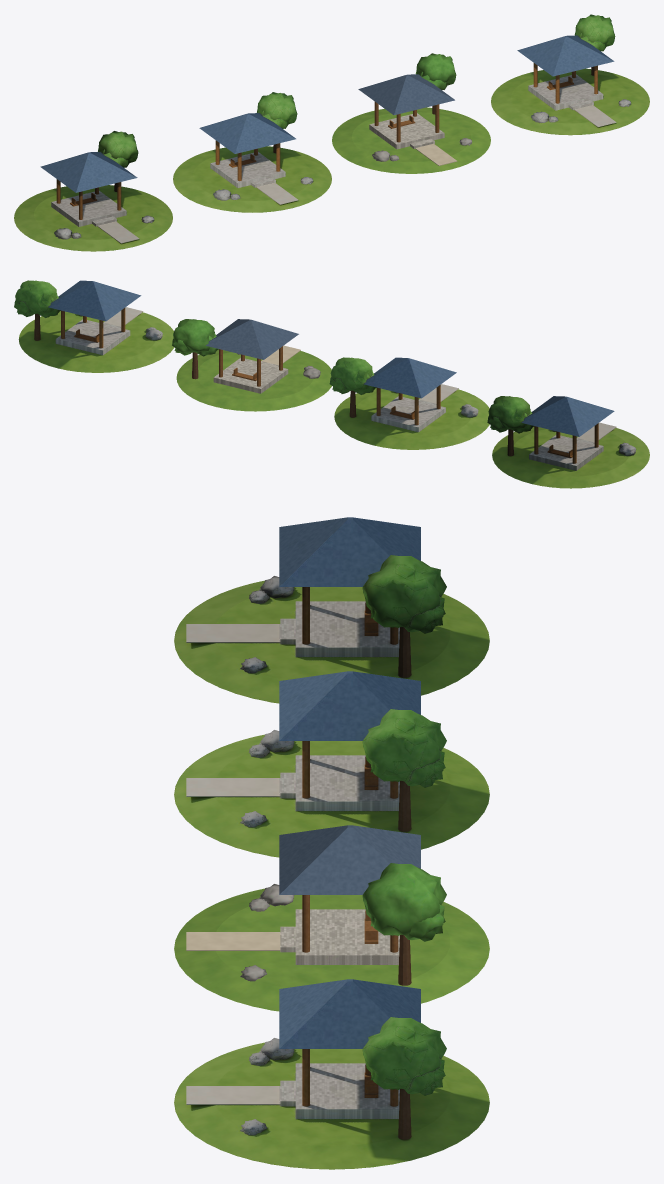
Rendered from edu_test_v1.glb.
The picture shows the model from 3 angles, top to bottom: view 1: azimuth 30°, elevation 25°; view 2: azimuth 150°, elevation 25°; view 3: azimuth 270°, elevation 25°; orthographic projection. The views are drawn at different scales.
Parts seen in each view (by area): view 1: A_bake_lit, B_bake_unlit, C_color_lit, D_bake_emit; view 2: A_bake_lit, C_color_lit, D_bake_emit, B_bake_unlit; view 3: D_bake_emit, A_bake_lit, B_bake_unlit, C_color_lit.
Part boxes in pixels (x1,y1,x2,y2): A_bake_lit: (14, 131, 172, 251); B_bake_unlit: (173, 92, 331, 212); C_color_lit: (332, 53, 490, 173); D_bake_emit: (491, 14, 649, 135); A_bake_lit: (487, 396, 649, 488); C_color_lit: (172, 319, 331, 411); D_bake_emit: (14, 280, 174, 372); B_bake_unlit: (329, 357, 489, 449); D_bake_emit: (174, 979, 489, 1169); A_bake_lit: (174, 517, 489, 703); B_bake_unlit: (174, 671, 489, 857); C_color_lit: (174, 825, 489, 1011).
Size of the model in its own units: 46.4 by 4.45 by 10.4.
4 materials, 4 textured.
